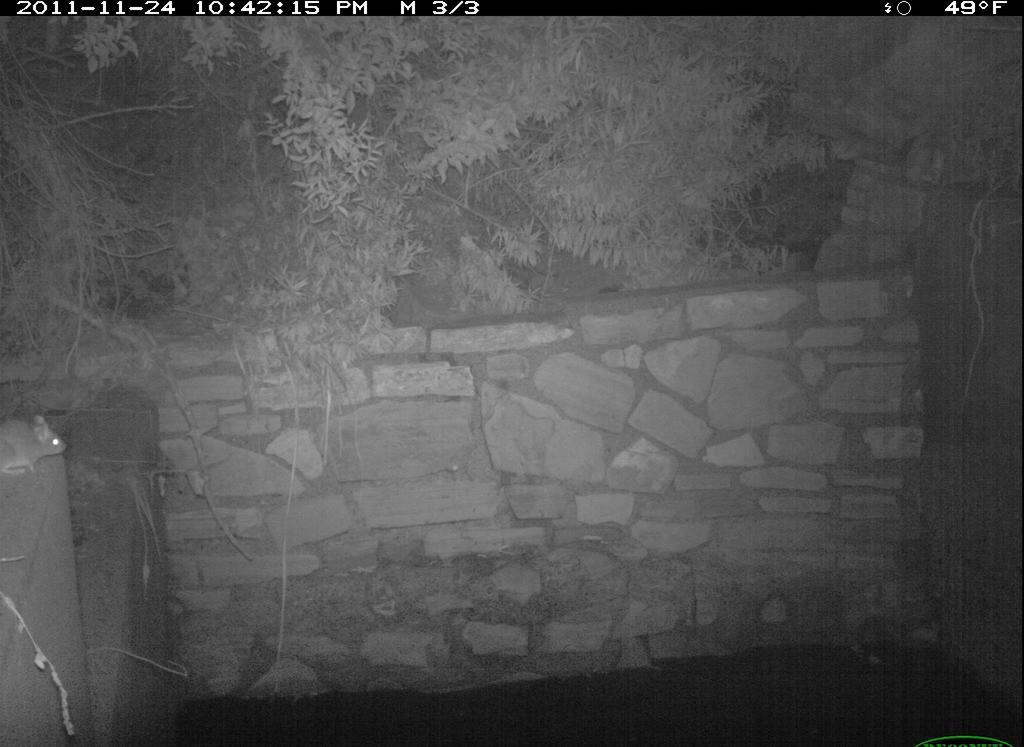rodent: (2, 396, 76, 487)
